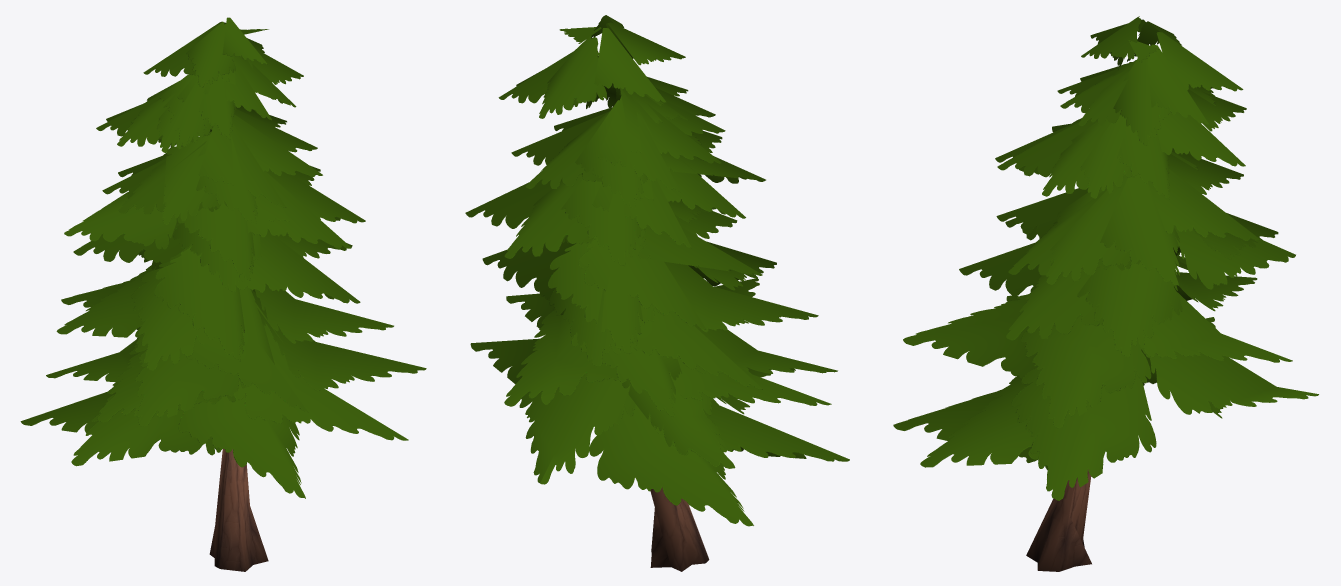
The model's file is Pine_5_far.gltf.
3 renders of one model, left to right at view 1: azimuth 30°, elevation 25°; view 2: azimuth 150°, elevation 25°; view 3: azimuth 270°, elevation 25°, orthographic. The views are drawn at different scales.
Visible parts, largest first — view 1: Pine_5; view 2: Pine_5; view 3: Pine_5.
Part boxes in pixels (bbox=[...]): Pine_5: bbox=[20, 17, 426, 571]; Pine_5: bbox=[465, 15, 849, 571]; Pine_5: bbox=[893, 16, 1318, 571].
Bounding box in the file's own units: 6.42 × 8.72 × 6.22.
2 materials, 2 textured.
